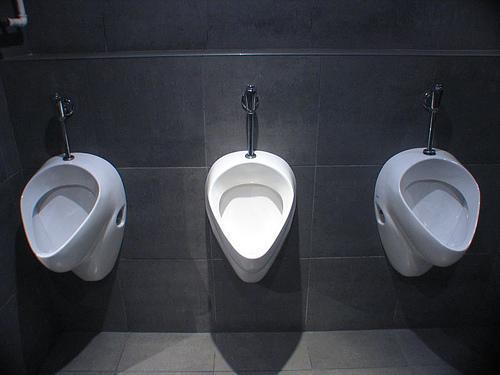Sanitario: (382, 141, 482, 279), (17, 155, 125, 281), (207, 148, 299, 290)
